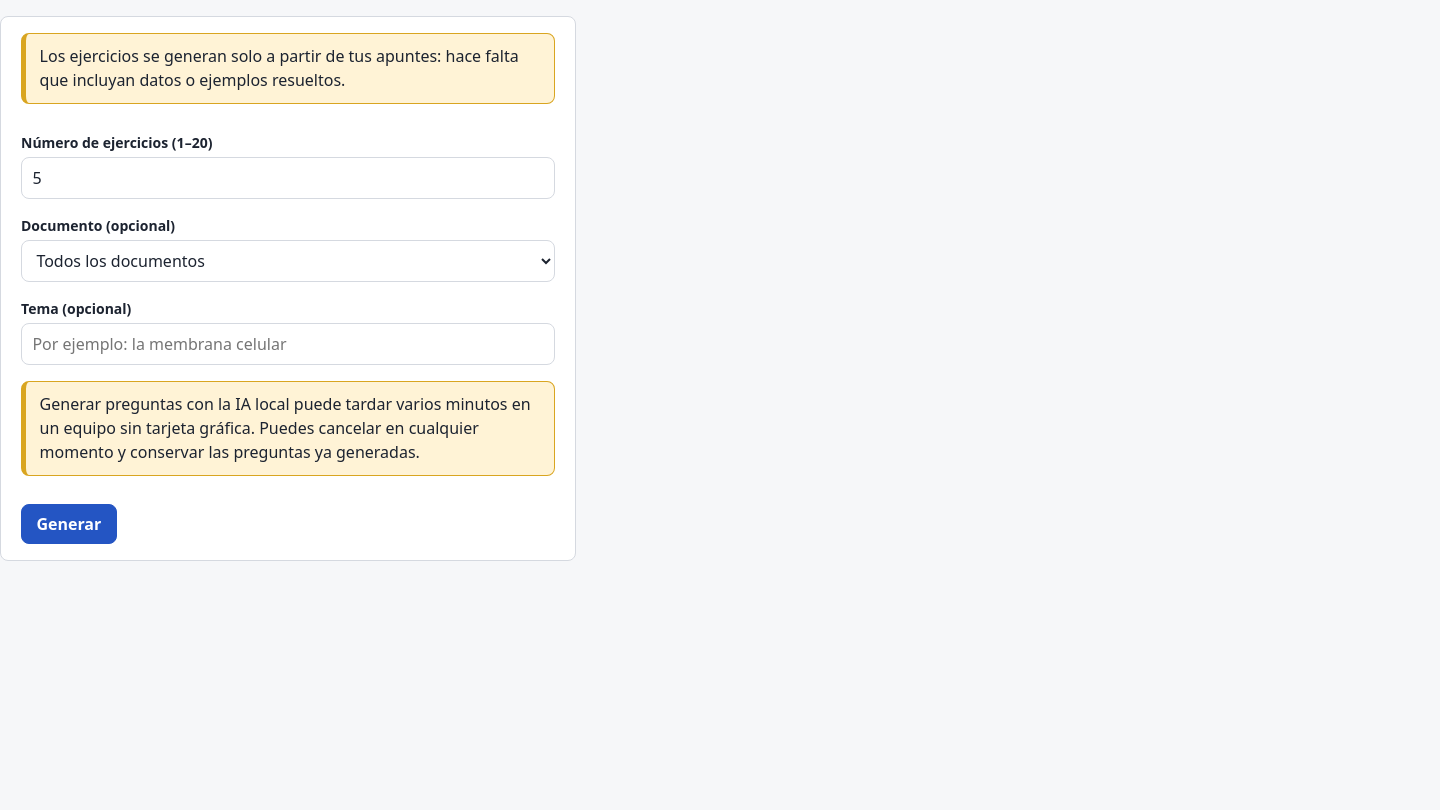
it: Ejercicios: formulario › genera siempre con type "practico", con documento y tema
Select "Apuntes de célula" in the dropdown labelled "Documento (opcional)": (288, 261) [21,240,555,282]
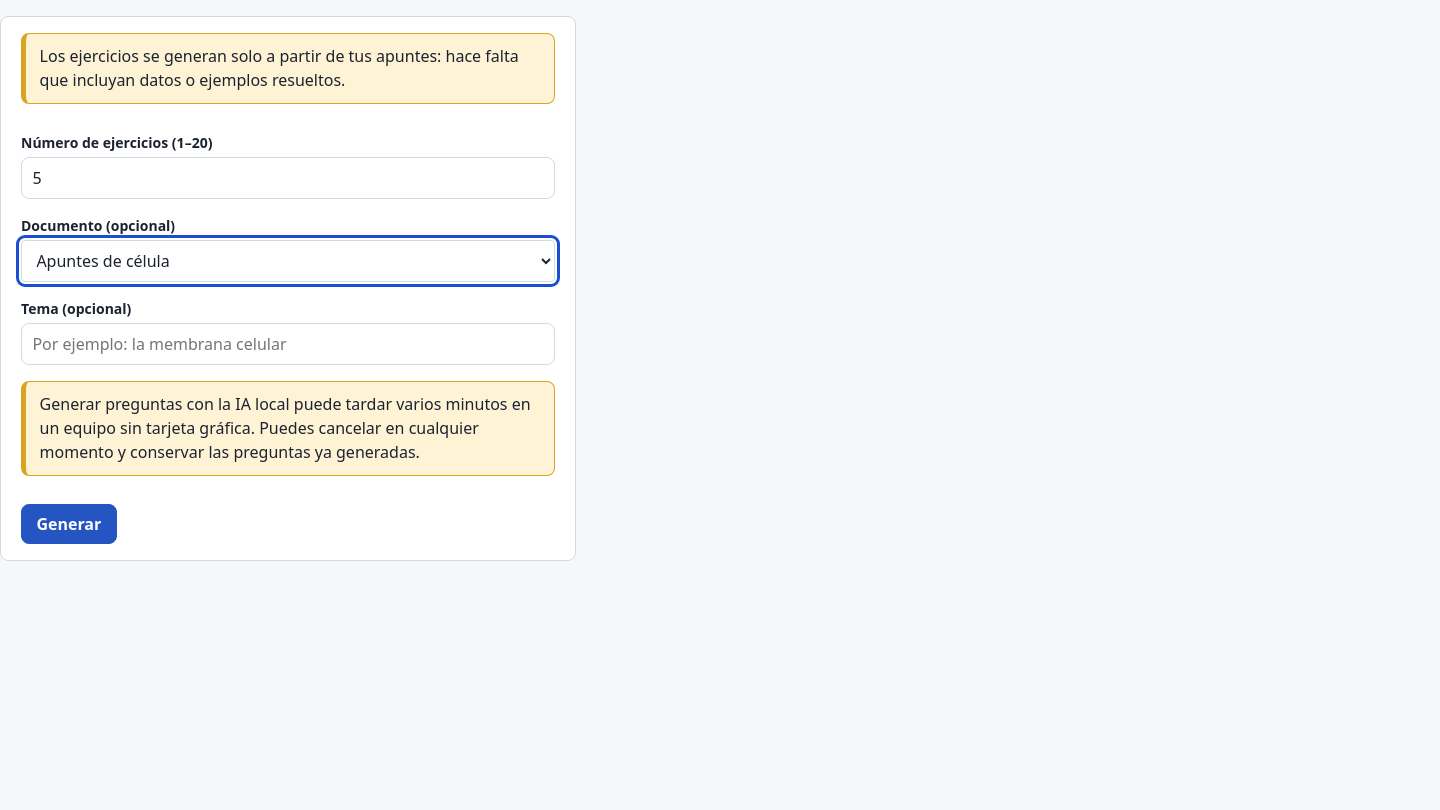
In the field labelled "Tema (opcional)": (288, 344) [21,323,555,365], type "ohm"
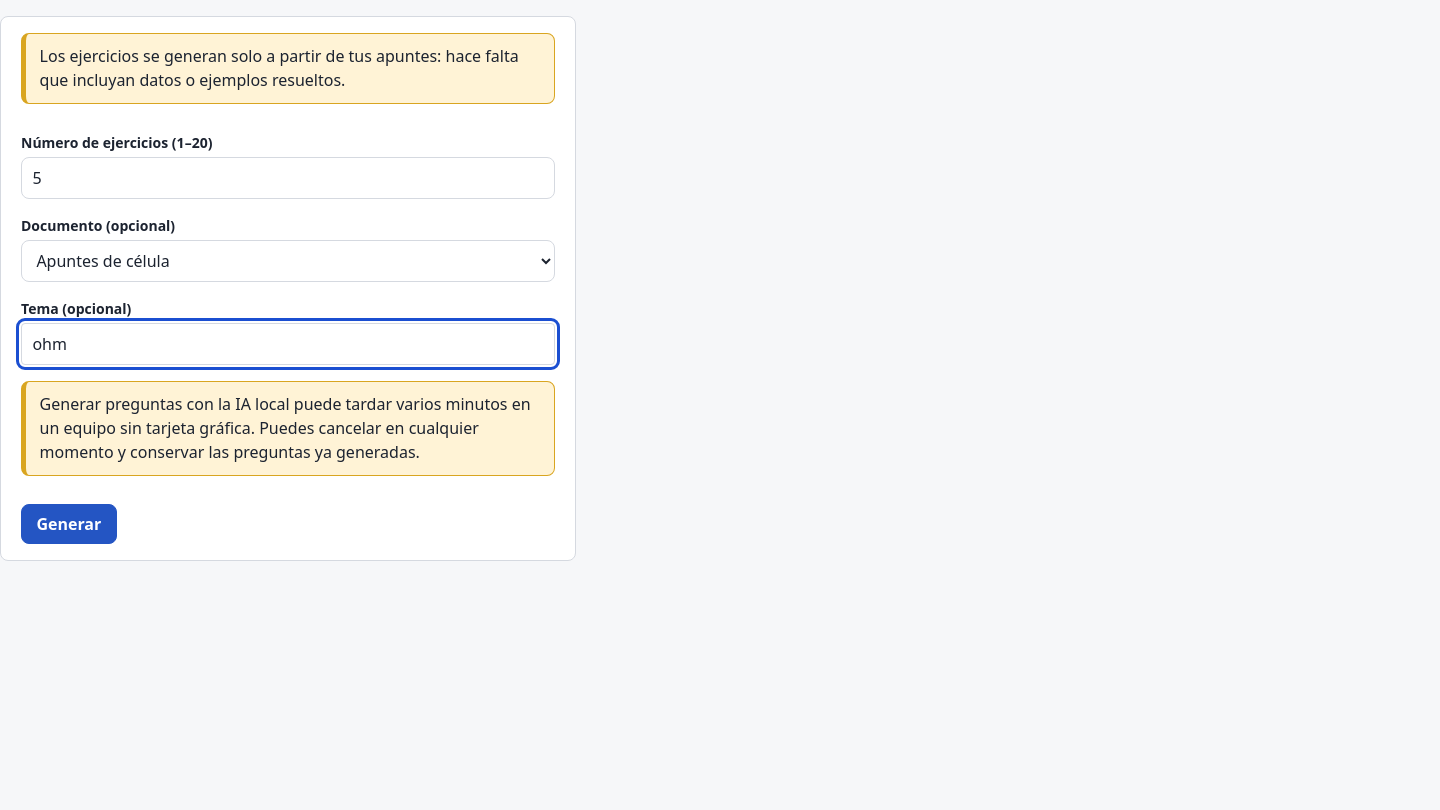
Click the button "Generar": (69, 524) [21,504,117,544]
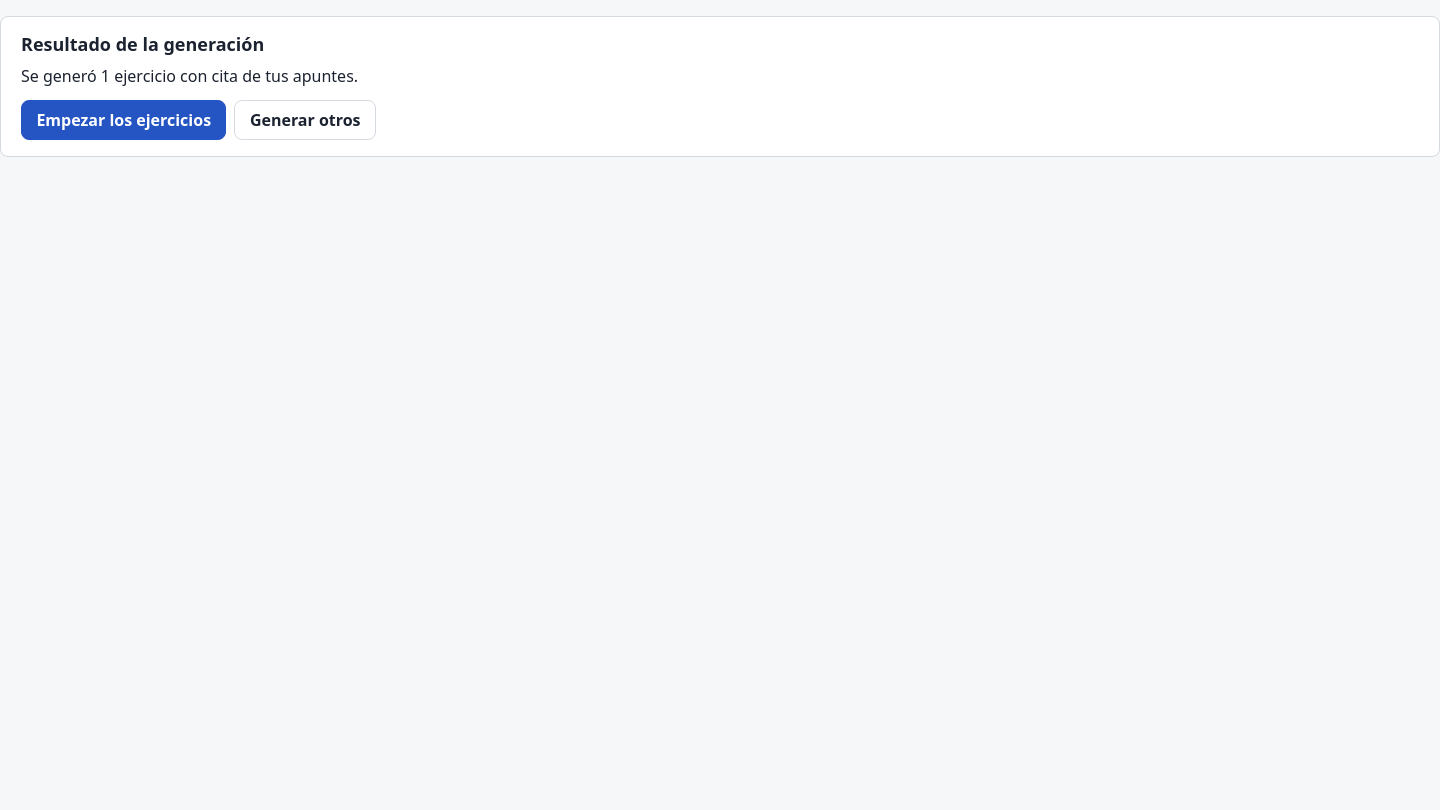
Now the button "Empezar los ejercicios" is shown, box [21,100,226,140]
